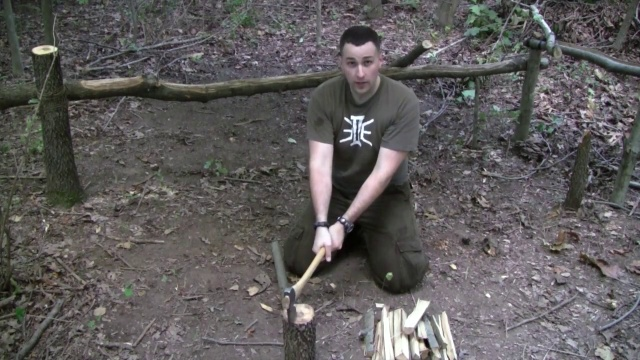person: (278, 28, 436, 293)
